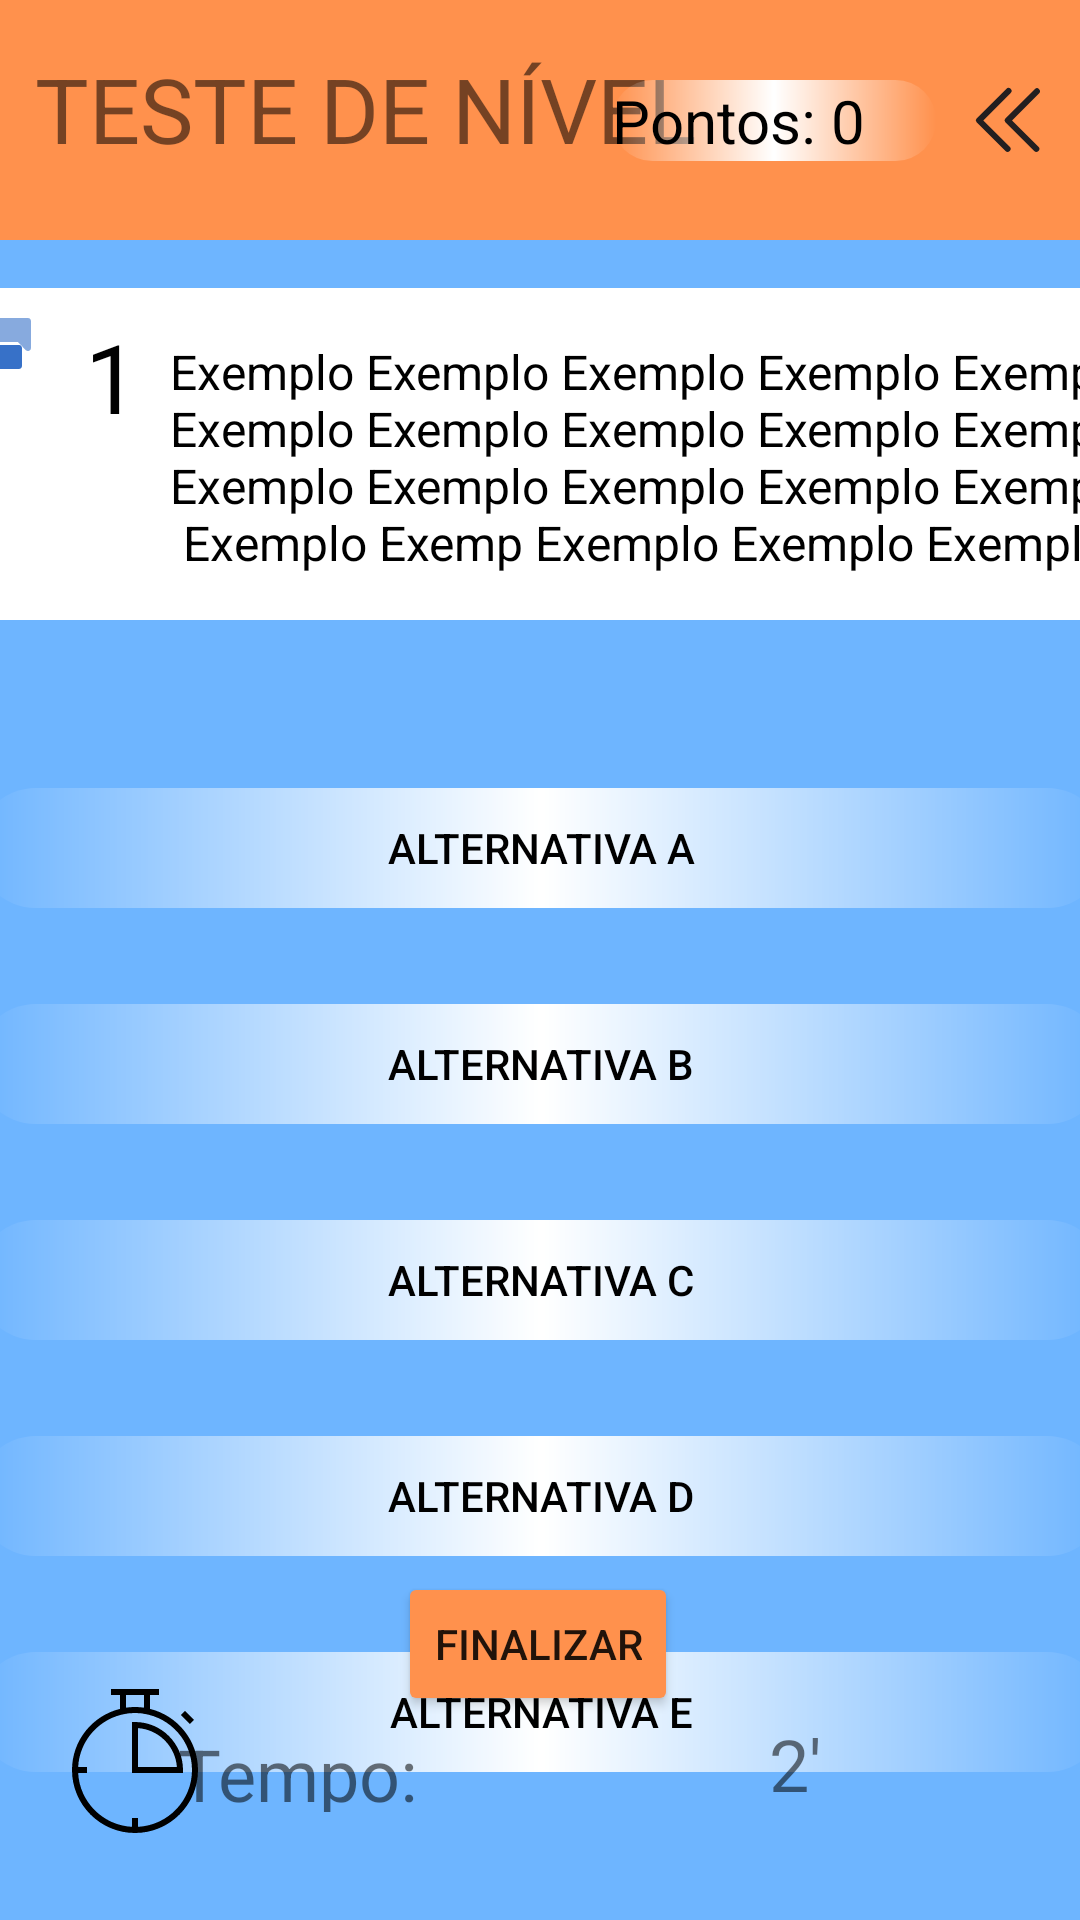

Point at icon controls on the screen. Image size 1080 × 1920, points as [x,y].
back: [1007,119]
count: [140,1759]
